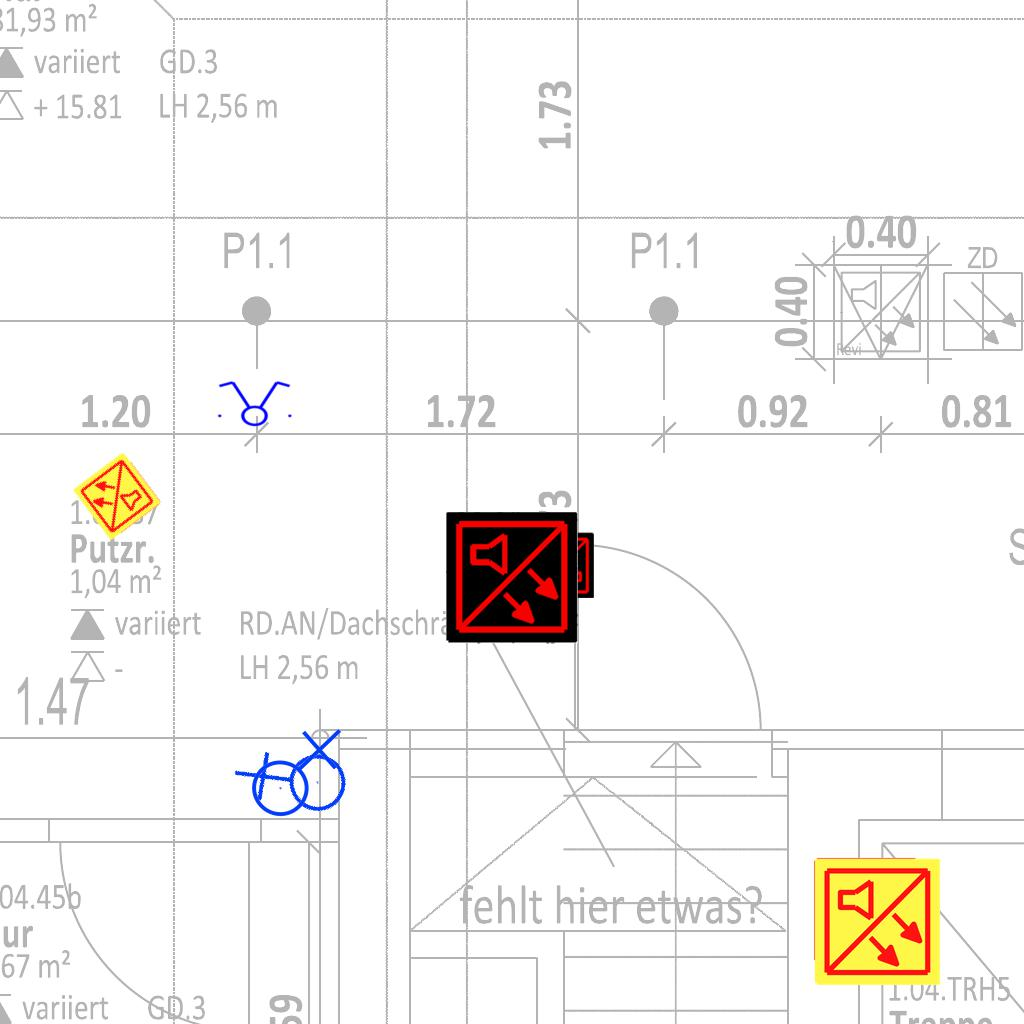Elektroanschluss_allgemein_230V_Geraeteanschlussdose_230V: (228, 715, 365, 853), (243, 724, 342, 818)
OKW_Multisensormelder_(Kombination_optischer_Rauch-Kahlenmonoxid_Waerme-Melder): (811, 856, 943, 988), (446, 512, 578, 644), (70, 449, 164, 543), (528, 532, 594, 598)
Serienschalter: (212, 379, 296, 427)
